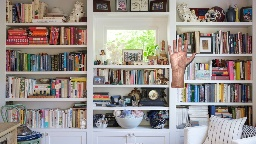Mano_aperta: (165, 36, 196, 71)
